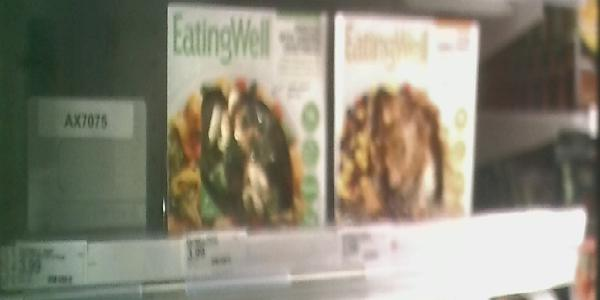pizza1: (168, 3, 328, 225), (332, 16, 476, 219)
